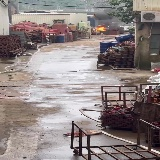fire: (95, 27, 105, 31)
